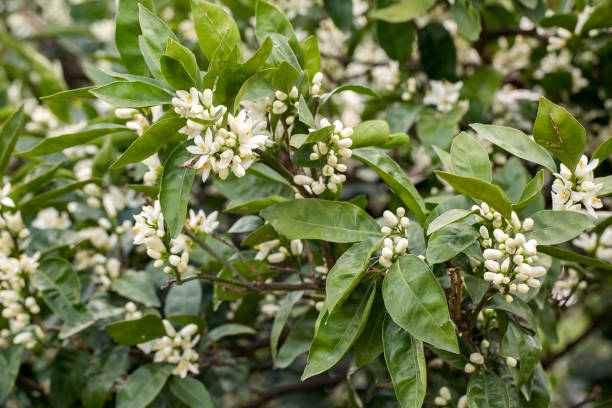flower: (186, 126, 224, 171), (163, 87, 207, 112), (225, 109, 258, 139)
